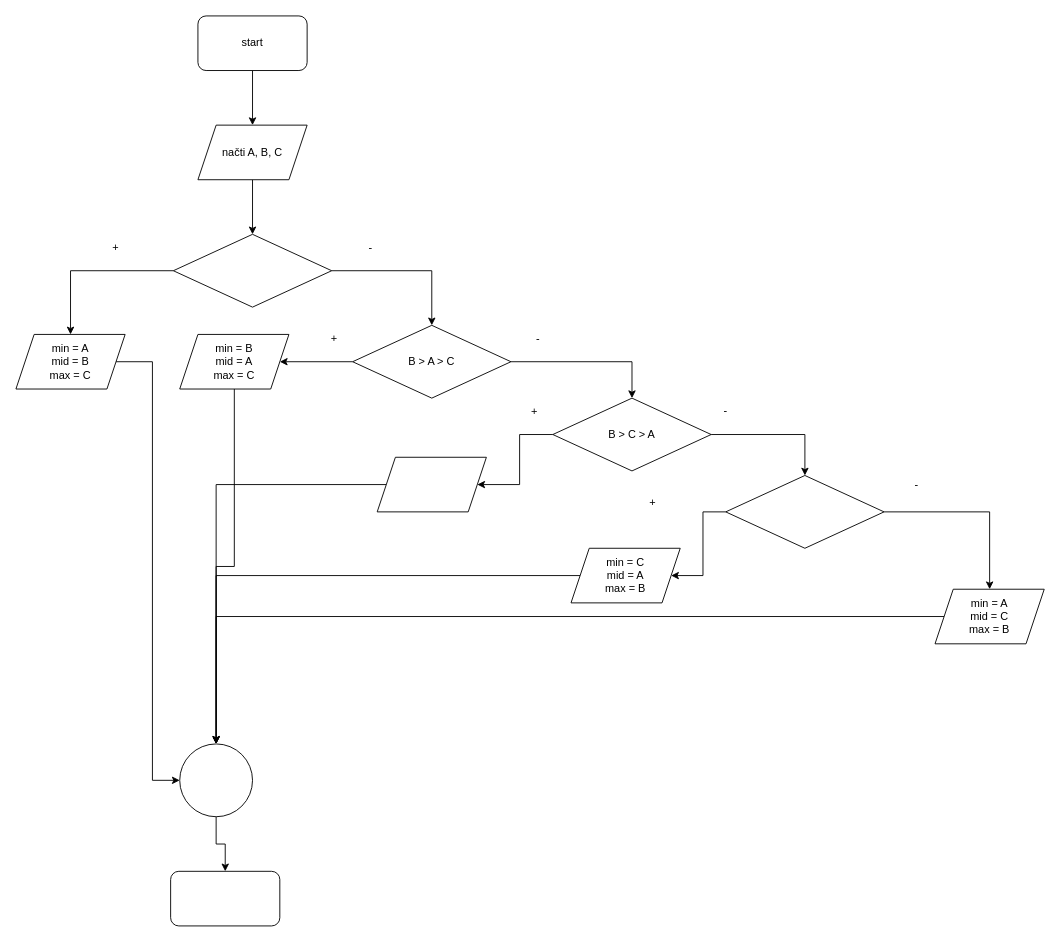
This 1060x942 diagram has some shape labels left out. Each missing label, with the box of its shape:
A > B > C: (172, 233, 332, 307)
C > A > B: (725, 475, 884, 548)
konec: (170, 870, 280, 926)
min = B mid = C max = A: (376, 456, 486, 512)
